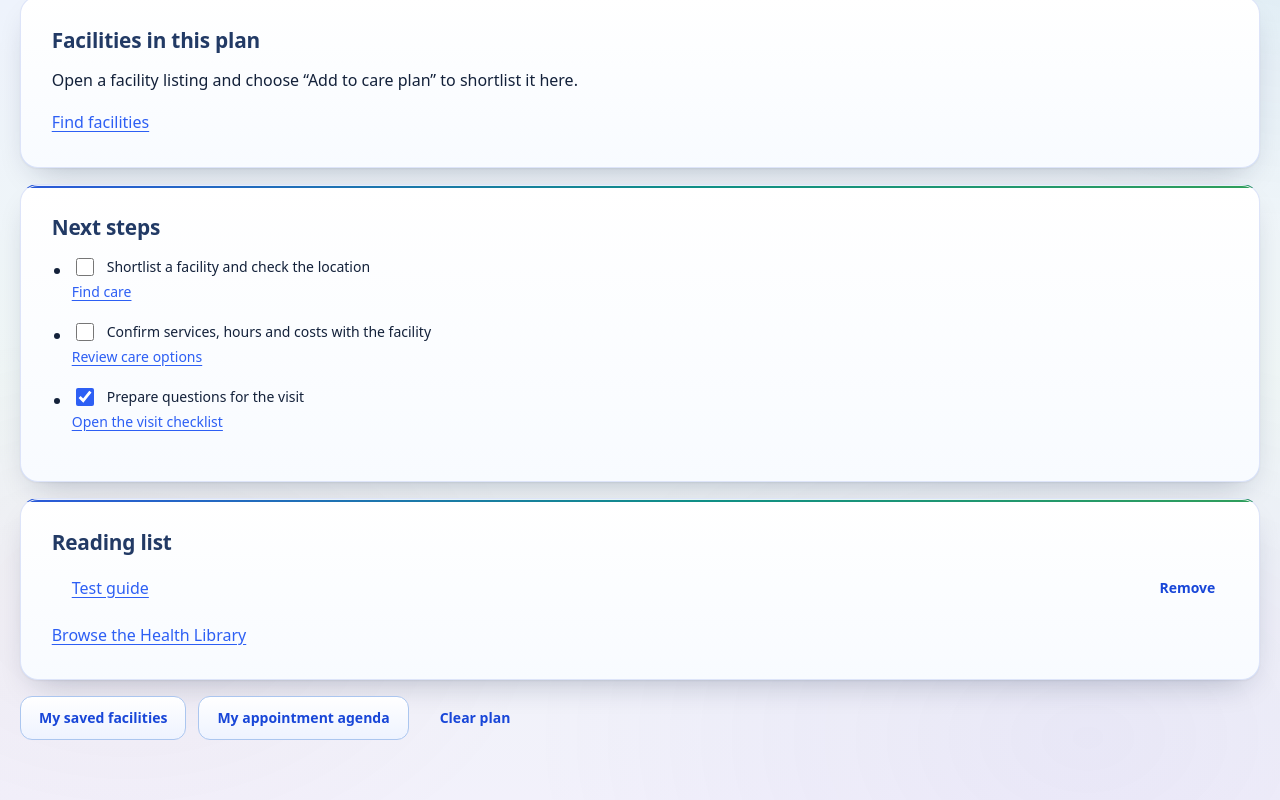
Scenario: care planner › renders a saved guide and clears checked steps and saved topics from the tab
(page scrolled)
Expected: the checkbox labelled "Prepare questions for the visit" is checked, x1=76 y1=388 x2=94 y2=406
Click the button "Clear plan": (475, 718) x1=421 y1=696 x2=529 y2=740
(page scrolled)
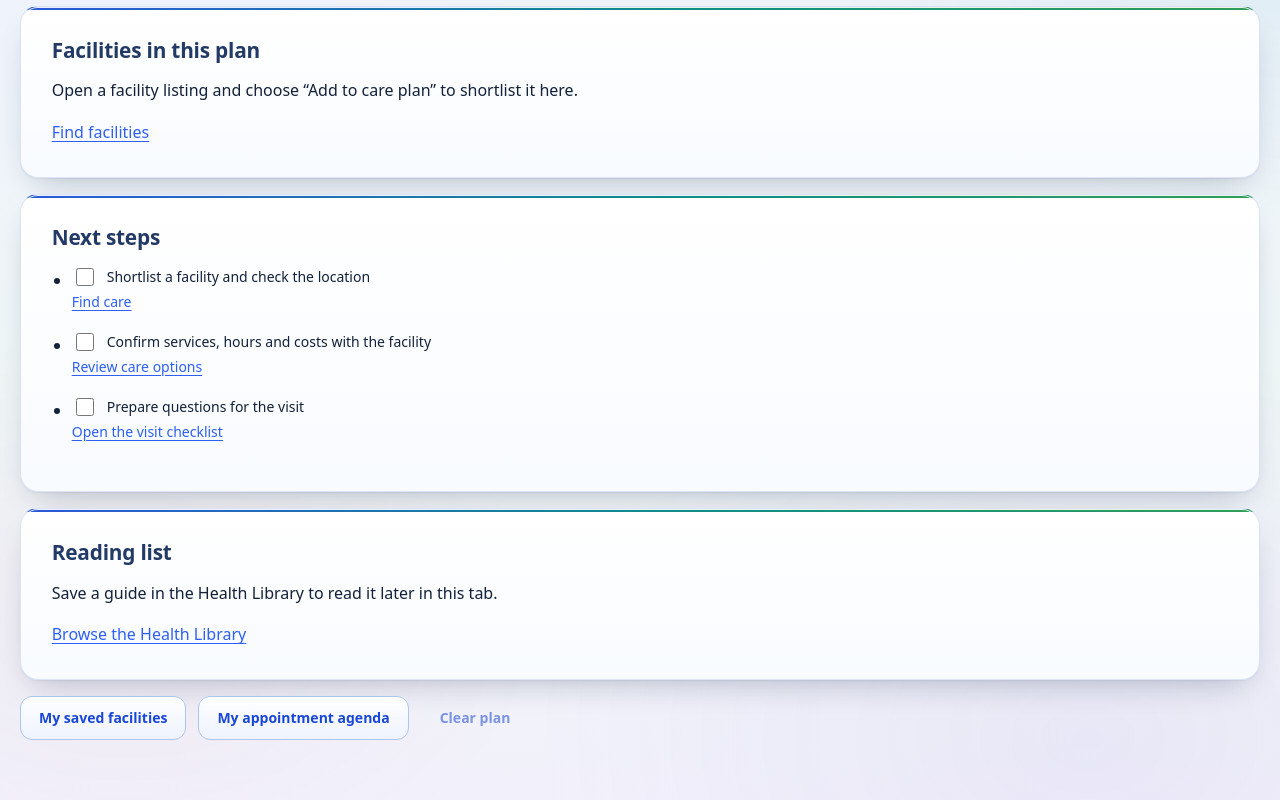
Now the link "Test guide" is gone
Now the checkbox labelled "Prepare questions for the visit" is not checked, box x1=76 y1=398 x2=94 y2=416
